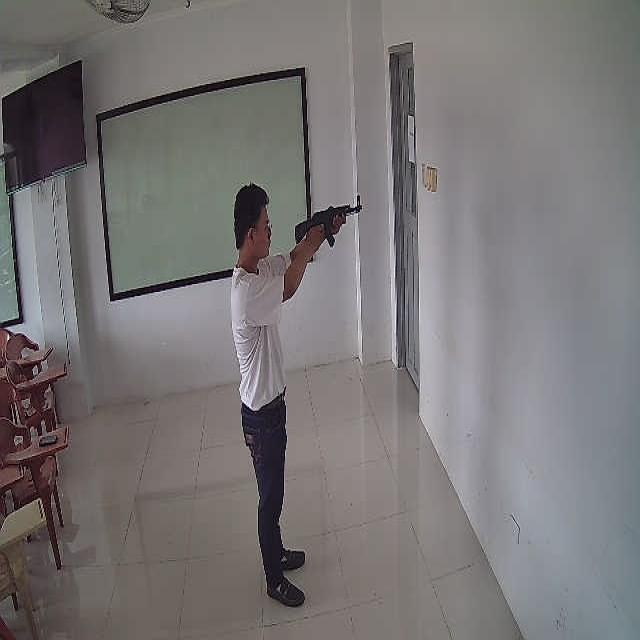rifle: (295, 194, 362, 247)
